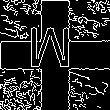M_S: (32, 30, 78, 80)
